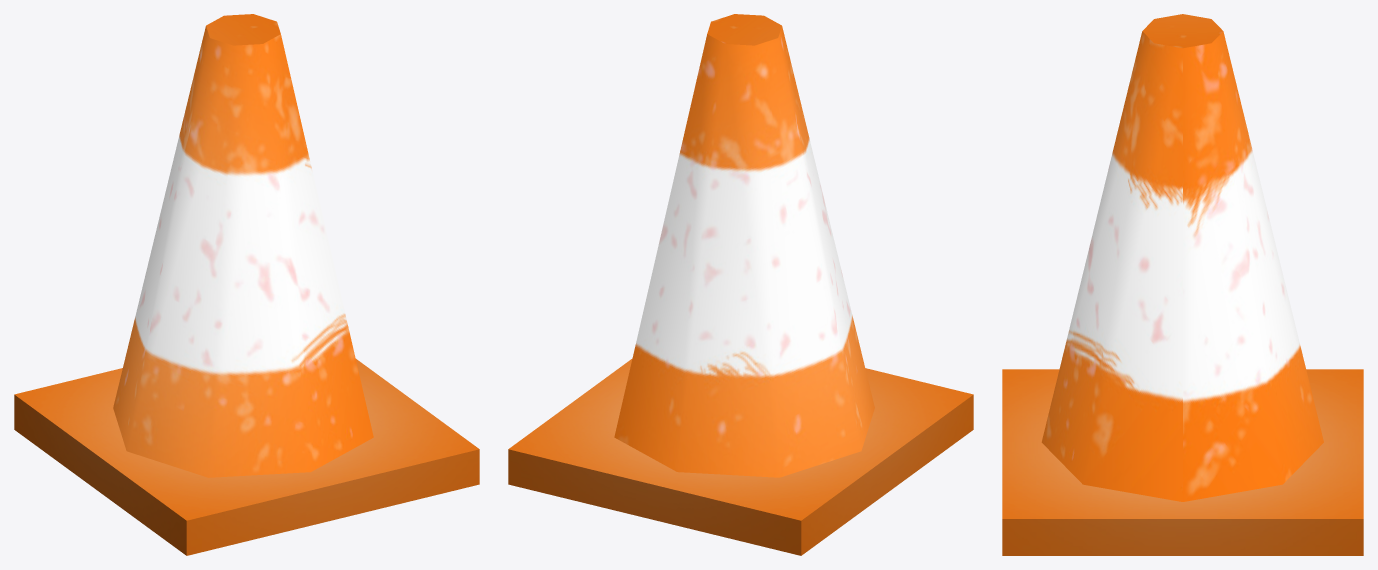
The model's file is traffic cone_01.FBX.
The picture shows the model from 3 angles, left to right: view 1: azimuth 30°, elevation 25°; view 2: azimuth 150°, elevation 25°; view 3: azimuth 270°, elevation 25°; orthographic projection. The views are drawn at different scales.
Visible parts, largest first — view 1: traffic cone; view 2: traffic cone; view 3: traffic cone.
Part boxes in pixels (<box>): traffic cone: <box>14,14,479,555</box>; traffic cone: <box>508,14,973,555</box>; traffic cone: <box>1002,14,1363,555</box>.
Bounding box in the file's own units: 76.08 × 106 × 77.59.
